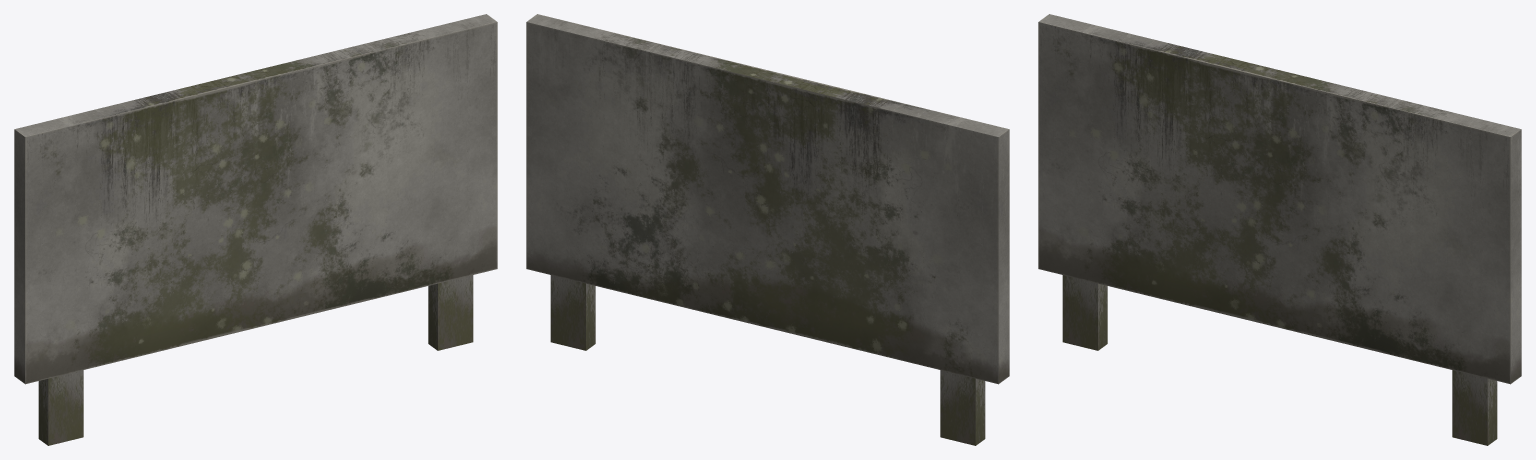
Rendered from fence_po2_C_web.glb.
3 views of the same model, side by side, from view 1: azimuth 30°, elevation 25°; view 2: azimuth 150°, elevation 25°; view 3: azimuth 330°, elevation 25° (orthographic).
Parts seen in each view (by area): view 1: FencePO2_C; view 2: FencePO2_C; view 3: FencePO2_C.
Boxes of the visible parts, bbox=[...] form: FencePO2_C: bbox=[14, 14, 497, 445]; FencePO2_C: bbox=[526, 14, 1009, 445]; FencePO2_C: bbox=[1038, 14, 1521, 445].
Bounding box in the file's own units: 4 × 2.55 × 0.1599.
1 material, 1 textured.
